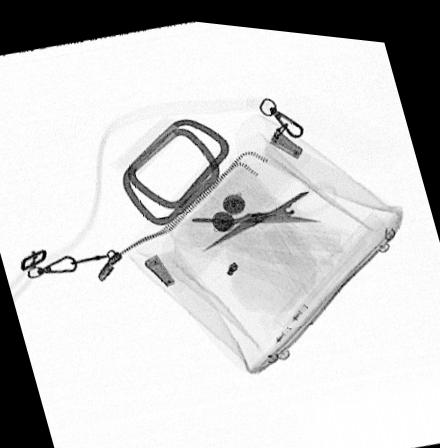Scissors: (166, 176, 335, 248)
